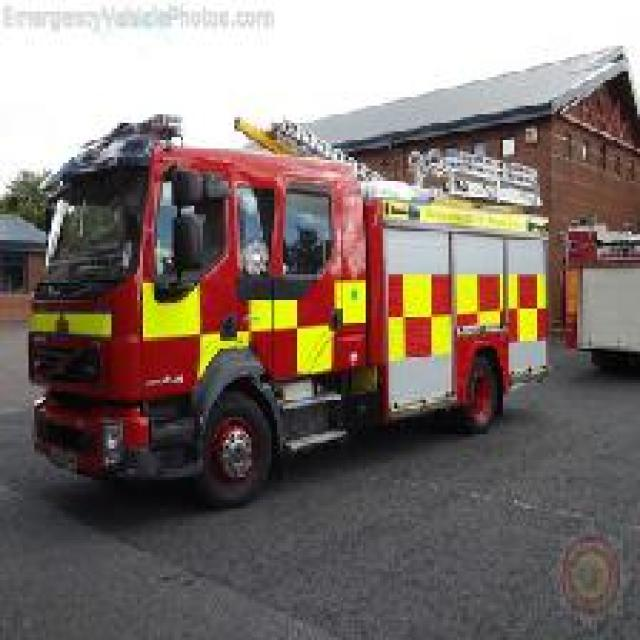Fire-truck: (23, 108, 551, 506)
